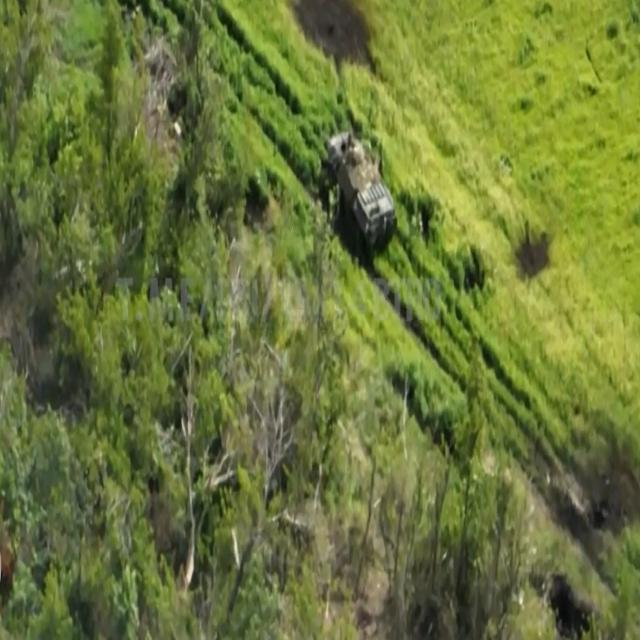APC: (327, 128, 399, 250)
